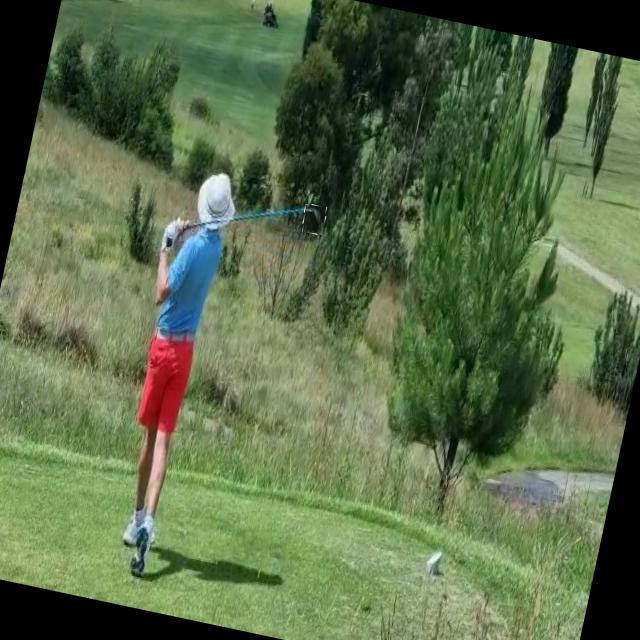club head: (300, 202, 328, 235)
